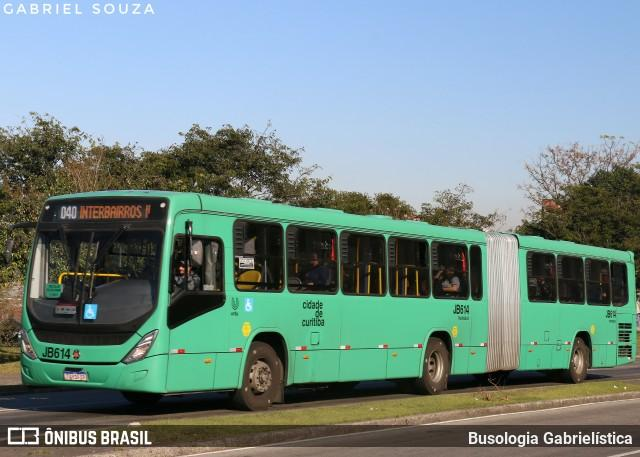INTERBAIRROS II: (77, 201, 154, 222)
